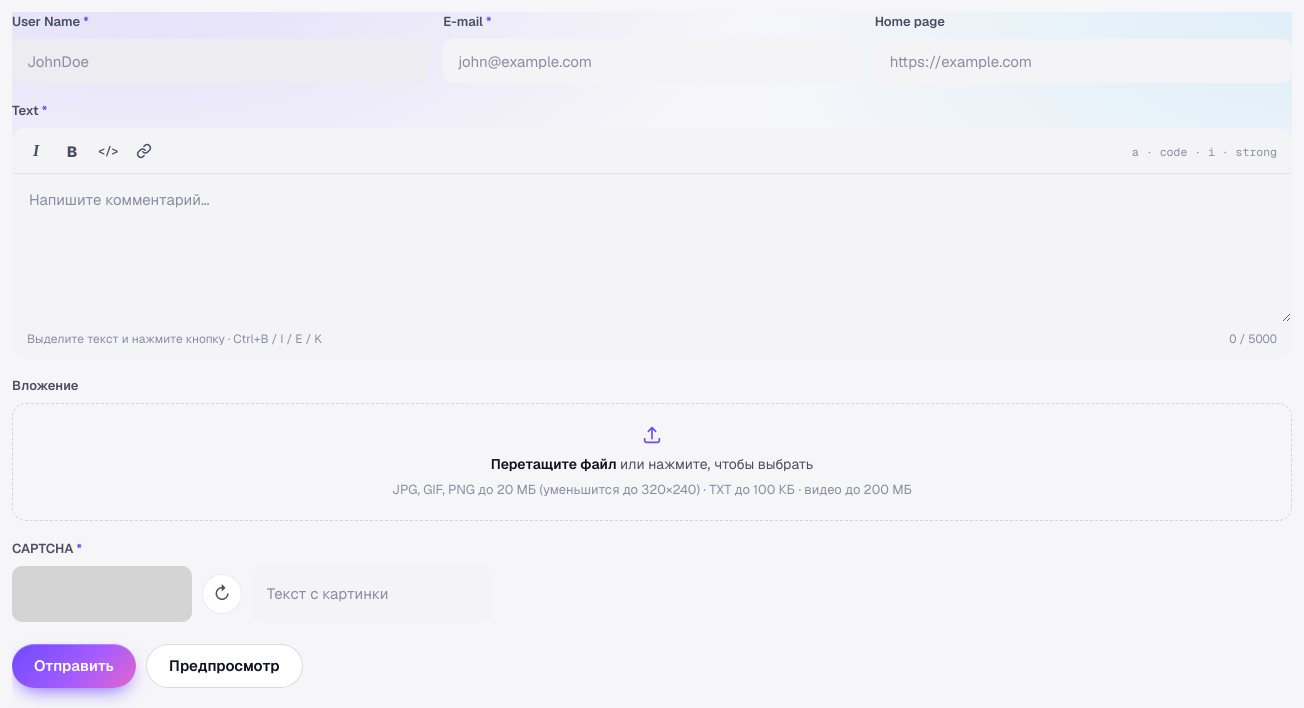
Test: CommentForm › успешная отправка: FormData с обрезанными полями и токеном капчи, сброс, профиль, новая капча
Type "  John1 " into the field with placeholder "JohnDoe". click: (221, 61)
box: [12,39,429,83]
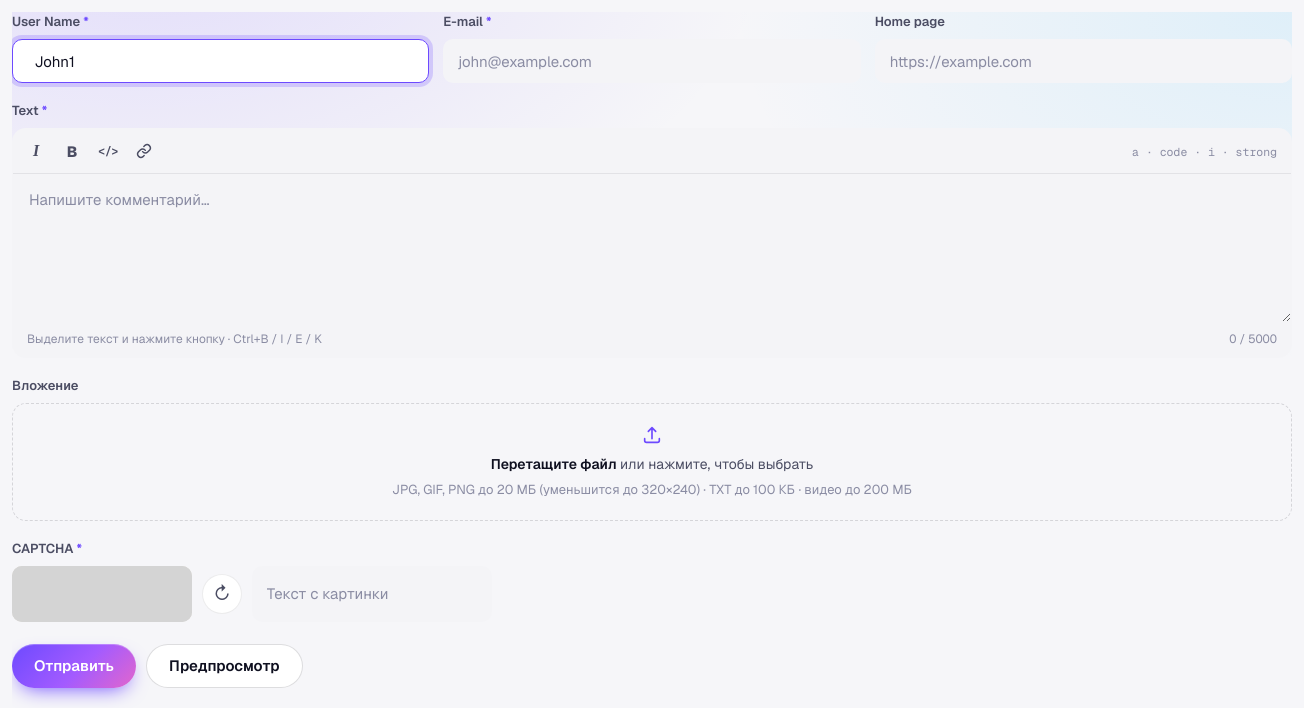
Type "john@ex.com" into the field with placeholder "john@example.com". click: (652, 61)
box: [443,39,861,83]
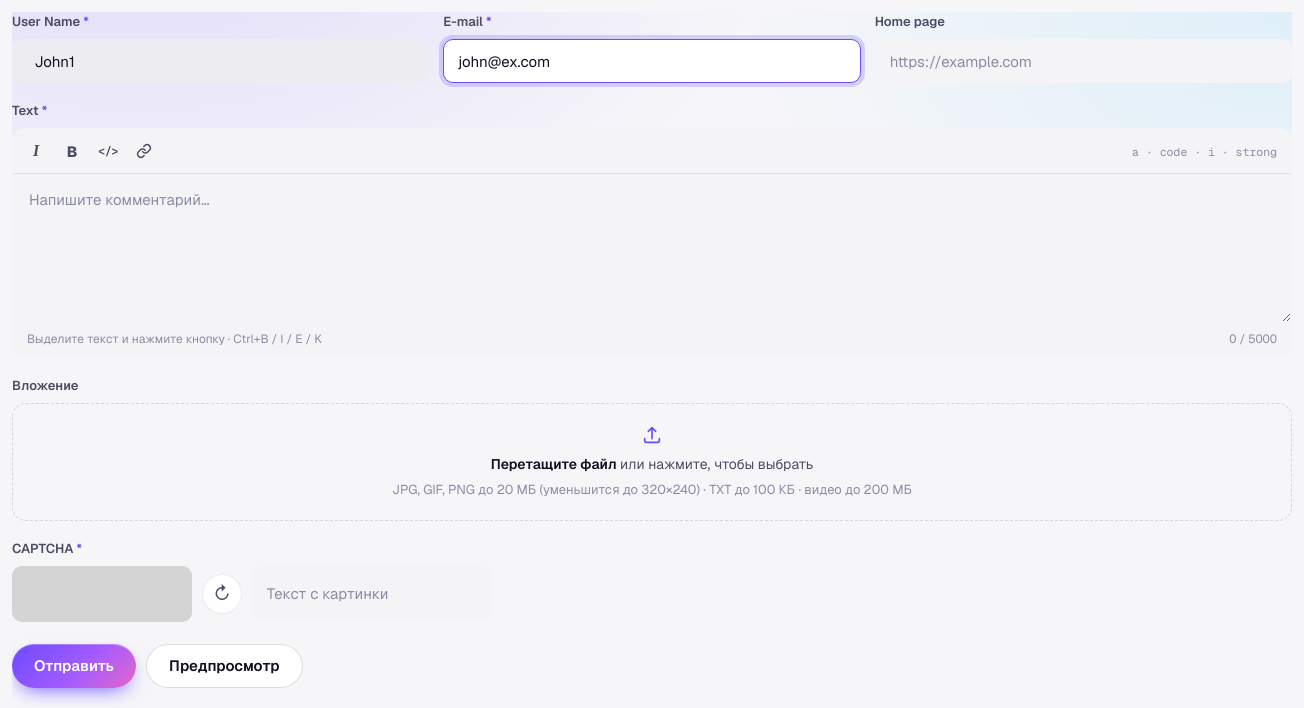
Type "Hello <i>w</i>" into the text box labelled "Text *". click: (652, 248)
box: [13,174,1291,322]
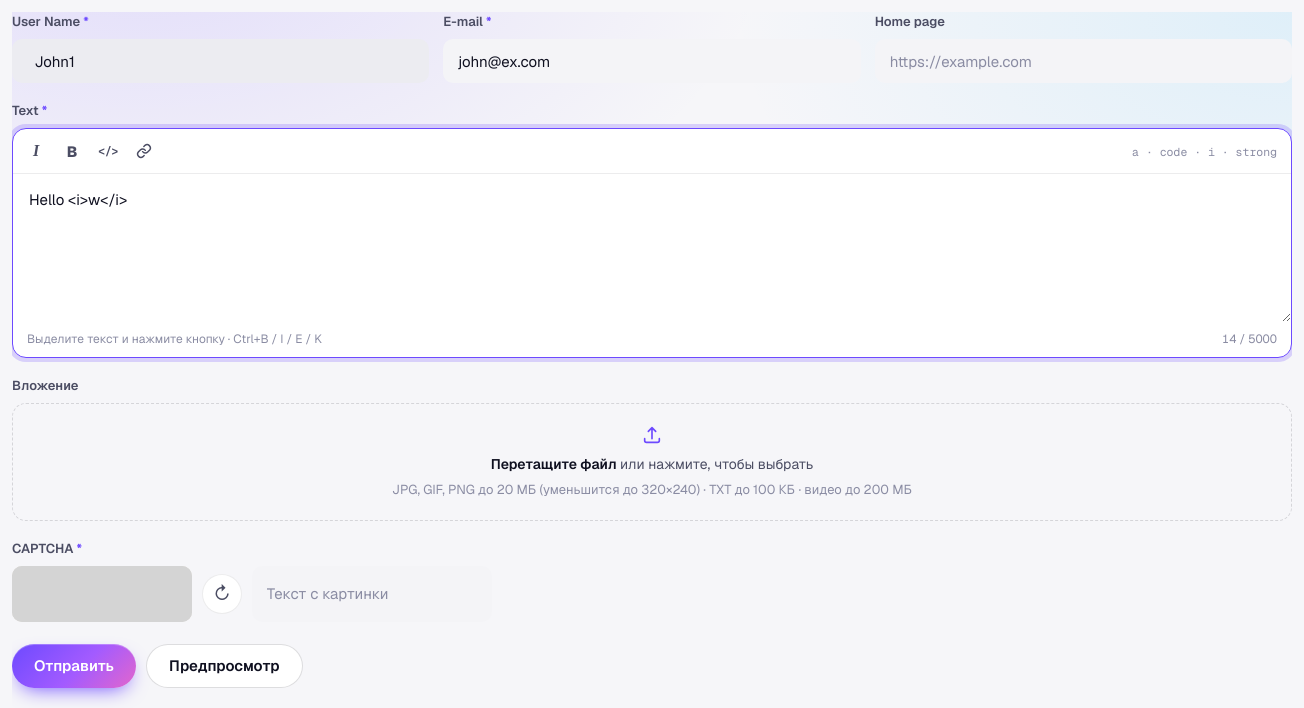
Type " aB3 " into the field with placeholder "Текст с картинки". click: (372, 594)
box: [252,566,492,622]
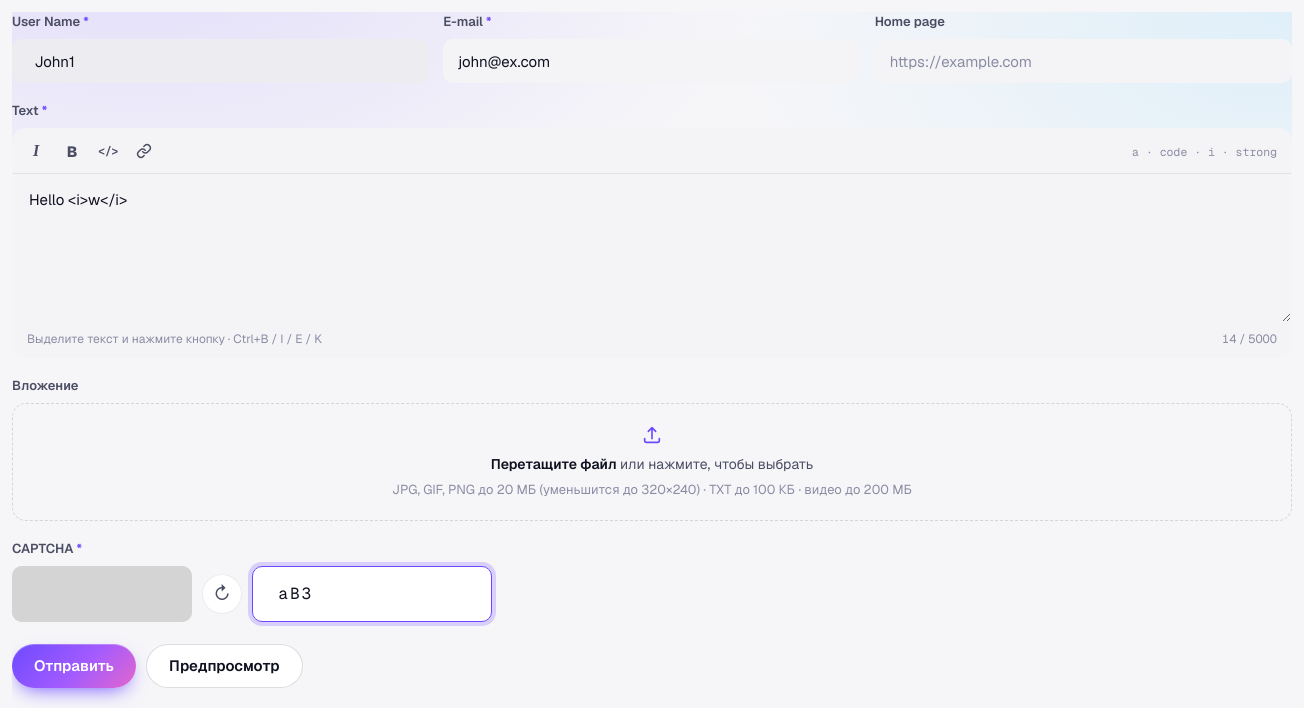
Click the button "Отправить". click: (74, 666)
box: [12,644,136,688]
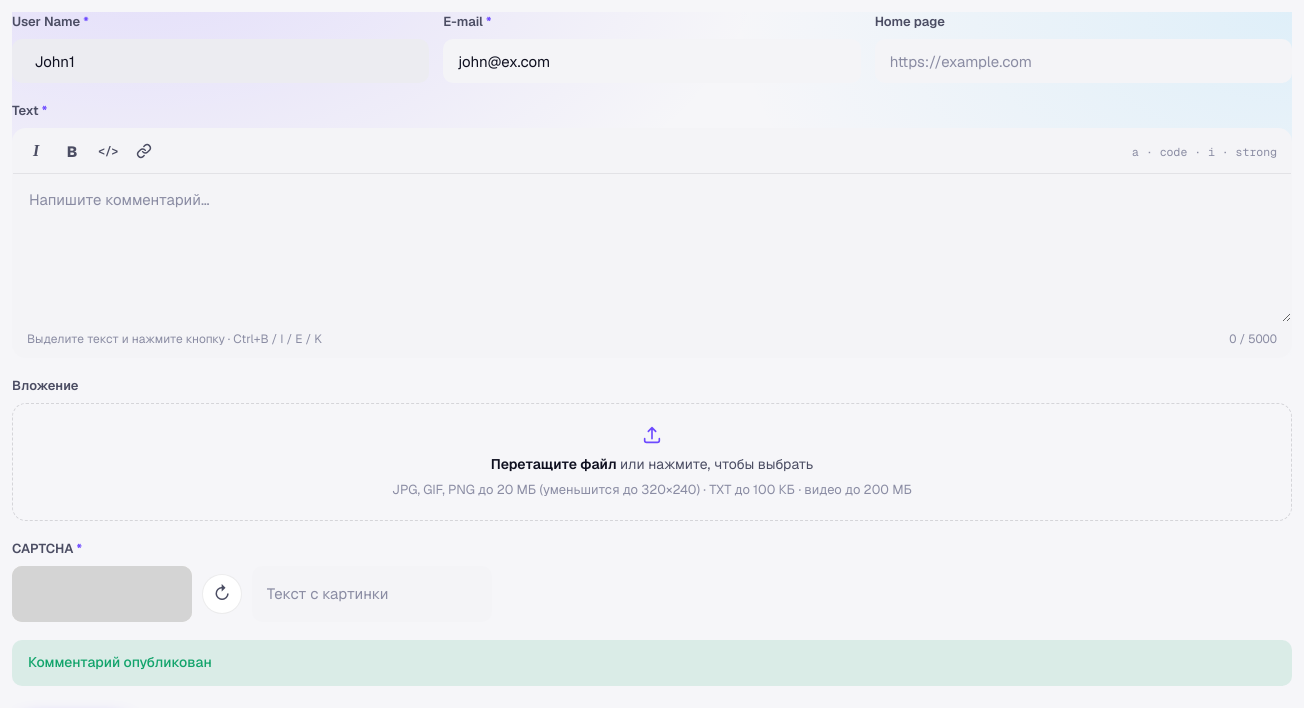
Expected: the text "Комментарий опубликован" is shown, [12,640,1292,686]
Expected: the text box labelled "Text *" is empty, [13,174,1291,322]
Expected: the field with placeholder "Текст с картинки" is empty, [252,566,492,622]
